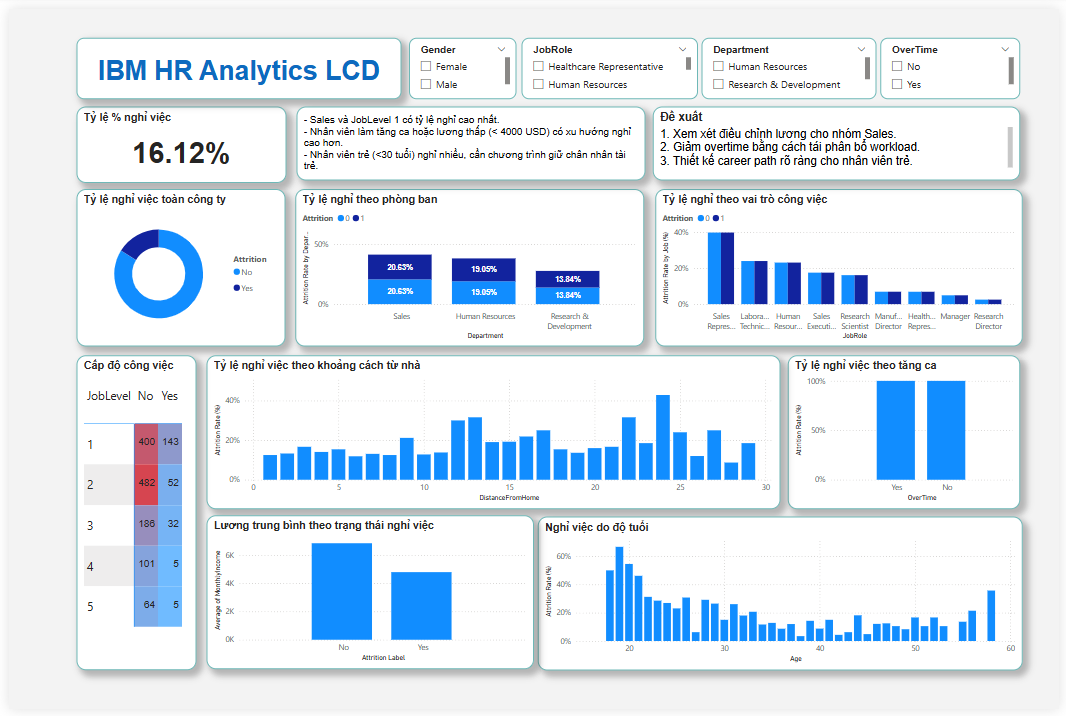

This screenshot's page, from the dashboard's own definition file:
{"tool":"powerbi","page":{"name":"Overview","canvas":[1680,1120],"ordinal":0},"visuals":[{"type":"card","title":"Tỷ lệ % nghỉ việc","fields":{"Values":["IBM_HR_Analytics_LCD.Attrition Rate (%)"]},"box":[108,156,336,122],"z":0},{"type":"clusteredColumnChart","title":"Tỷ lệ nghỉ theo vai trò công việc","fields":{"Category":["IBM_HR_Analytics_LCD.JobRole"],"Series":["IBM_HR_Analytics_LCD.Attrition"],"Y":["IBM_HR_Analytics_LCD.Attrition Rate by Job (%)"]},"box":[1034,288,588,252],"z":1000},{"type":"columnChart","title":"Tỷ lệ nghỉ theo phòng ban","fields":{"Category":["IBM_HR_Analytics_LCD.Department"],"Series":["IBM_HR_Analytics_LCD.Attrition"],"Y":["IBM_HR_Analytics_LCD.Attrition Rate by Department (%)"]},"box":[458,288,558,252],"z":2000},{"type":"textbox","box":[108.3,46.7,520,98.3],"z":3000},{"type":"hundredPercentStackedColumnChart","title":"Tỷ lệ nghỉ việc theo tăng ca","fields":{"Category":["IBM_HR_Analytics_LCD.OverTime"],"Y":["IBM_HR_Analytics_LCD.Attrition Rate (%)"]},"box":[1246,554,372,246],"z":4000},{"type":"donutChart","title":"Tỷ lệ nghỉ việc toàn công ty","fields":{"Category":["IBM_HR_Analytics_LCD.Attrition Label"],"Y":["CountNonNull(IBM_HR_Analytics_LCD.Attrition)"]},"box":[108,288,334,252],"z":5000},{"type":"columnChart","title":"Tỷ lệ nghỉ việc theo khoảng cách từ nhà","fields":{"Category":["IBM_HR_Analytics_LCD.DistanceFromHome"],"Y":["IBM_HR_Analytics_LCD.Attrition Rate (%)"]},"box":[316,554,918,246],"z":6000},{"type":"columnChart","title":"Nghỉ việc do độ tuổi","fields":{"Category":["IBM_HR_Analytics_LCD.Age"],"Y":["IBM_HR_Analytics_LCD.Attrition Rate (%)"]},"box":[846,812,776,246],"z":7000},{"type":"pivotTable","title":"Cấp độ công việc","fields":{"Rows":["IBM_HR_Analytics_LCD.JobLevel"],"Values":["CountNonNull(IBM_HR_Analytics_LCD.Attrition)"],"Columns":["IBM_HR_Analytics_LCD.Attrition Label"]},"box":[108,554,192,504],"z":8000},{"type":"columnChart","title":"Lương trung bình theo trạng thái nghỉ việc","fields":{"Y":["Avg(IBM_HR_Analytics_LCD.MonthlyIncome)"],"Category":["IBM_HR_Analytics_LCD.Attrition Label"]},"box":[316,810,524,246],"z":9000},{"type":"textbox","box":[460,156,558,118],"z":10000},{"type":"textbox","title":"Đề xuất","box":[1030,156,588,118],"z":11000},{"type":"slicer","fields":{"Values":["IBM_HR_Analytics_LCD.Gender"]},"box":[640,46,172,98],"z":12000},{"type":"slicer","fields":{"Values":["IBM_HR_Analytics_LCD.JobRole"]},"box":[820,46,282,98],"z":13000},{"type":"slicer","fields":{"Values":["IBM_HR_Analytics_LCD.Department"]},"box":[1108,46,280,98],"z":14000},{"type":"slicer","fields":{"Values":["IBM_HR_Analytics_LCD.OverTime"]},"box":[1394,46,224,98],"z":15000}]}

Visuals, with their boxes in screenshot pixels (x1, y1, x2, y2), scaled from the page's 1680x1120 canvas onto the 1066x716 screenshot:
"Tỷ lệ % nghỉ việc" card: crop(69, 100, 282, 178)
"Tỷ lệ nghỉ theo vai trò công việc" clusteredColumnChart: crop(656, 184, 1029, 345)
"Tỷ lệ nghỉ theo phòng ban" columnChart: crop(291, 184, 645, 345)
textbox: crop(69, 30, 399, 93)
"Tỷ lệ nghỉ việc theo tăng ca" hundredPercentStackedColumnChart: crop(791, 354, 1027, 511)
"Tỷ lệ nghỉ việc toàn công ty" donutChart: crop(69, 184, 280, 345)
"Tỷ lệ nghỉ việc theo khoảng cách từ nhà" columnChart: crop(201, 354, 783, 511)
"Nghỉ việc do độ tuổi" columnChart: crop(537, 519, 1029, 676)
"Cấp độ công việc" pivotTable: crop(69, 354, 190, 676)
"Lương trung bình theo trạng thái nghỉ việc" columnChart: crop(201, 518, 533, 675)
textbox: crop(292, 100, 646, 175)
"Đề xuất" textbox: crop(654, 100, 1027, 175)
slicer - IBM_HR_Analytics_LCD.Gender: crop(406, 29, 515, 92)
slicer - IBM_HR_Analytics_LCD.JobRole: crop(520, 29, 699, 92)
slicer - IBM_HR_Analytics_LCD.Department: crop(703, 29, 881, 92)
slicer - IBM_HR_Analytics_LCD.OverTime: crop(885, 29, 1027, 92)
